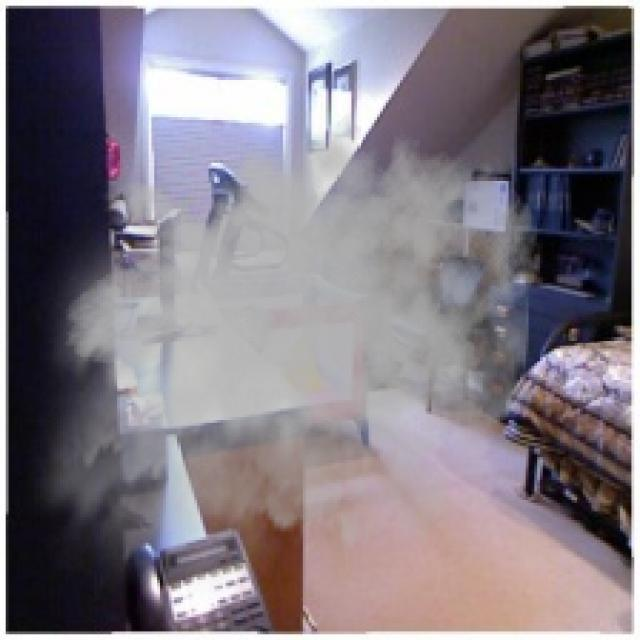Smoke: (17, 97, 540, 612)
